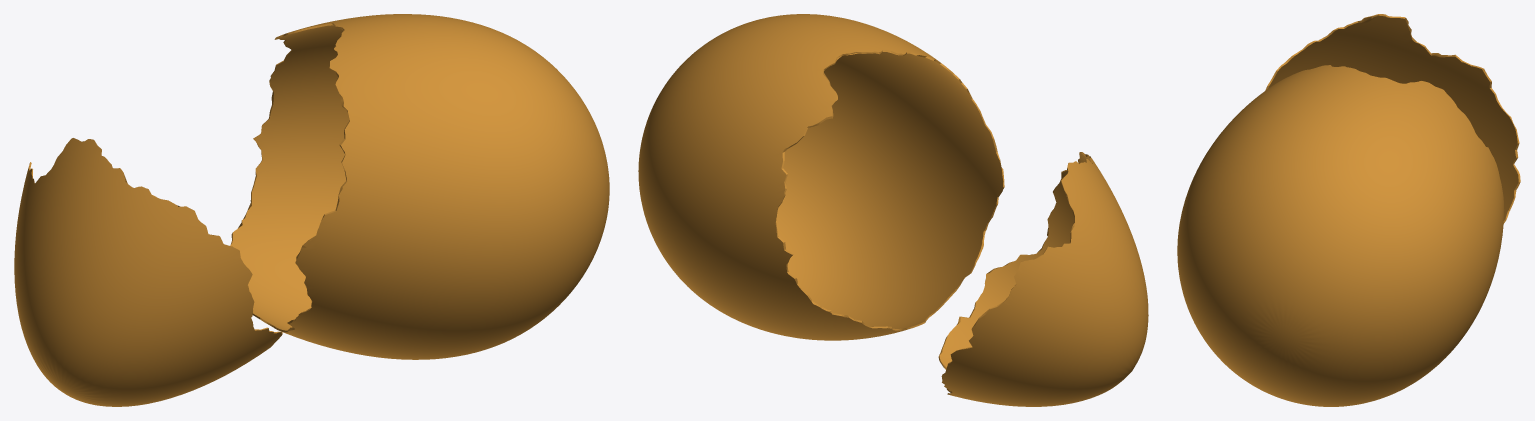
The model's file is 鸡蛋壳.FBX.
3 renders of one model, left to right at view 1: azimuth 30°, elevation 25°; view 2: azimuth 150°, elevation 25°; view 3: azimuth 270°, elevation 25°, orthographic. The views are drawn at different scales.
Visible parts, largest first — view 1: danke1, danke2; view 2: danke1, danke2; view 3: danke1, danke2.
Part boxes in pixels (left/top/right/bottom): danke1: left=230, top=14, right=609, bottom=359; danke2: left=14, top=138, right=282, bottom=406; danke1: left=638, top=14, right=1004, bottom=340; danke2: left=938, top=152, right=1148, bottom=406; danke1: left=1177, top=65, right=1504, bottom=406; danke2: left=1265, top=14, right=1520, bottom=223.
Size of the model in its own units: 351 by 199 by 215.
